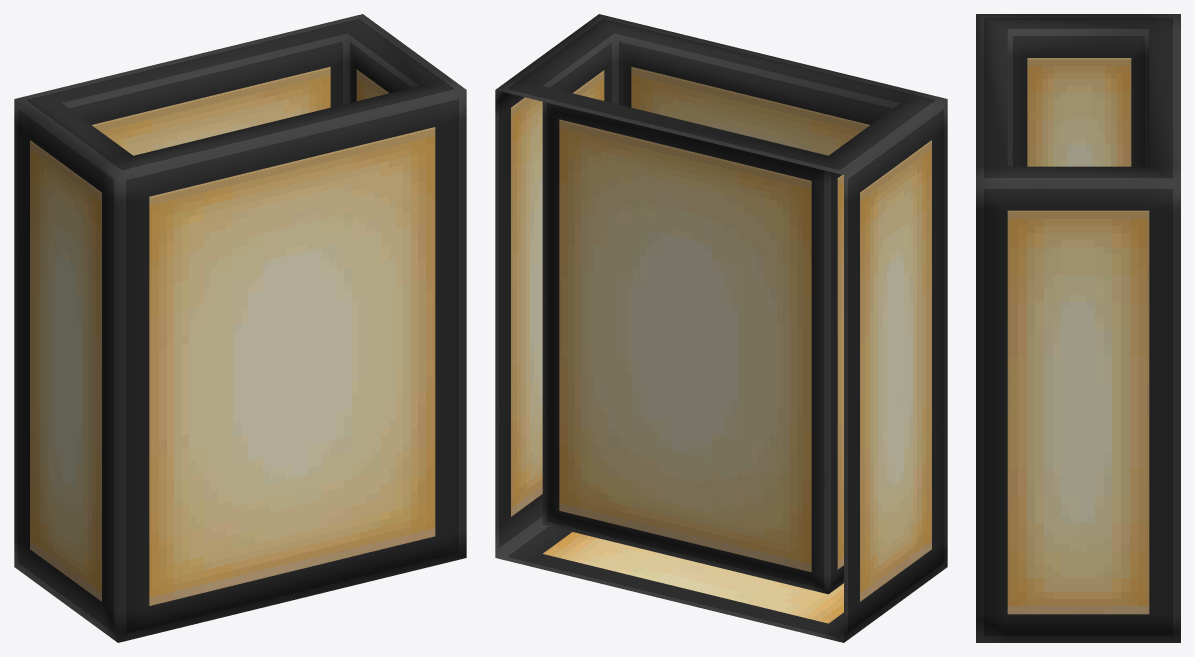
The model's file is rmk_jpn_lamp_wall.dae.
The picture shows the model from 3 angles, left to right: view 1: azimuth 30°, elevation 25°; view 2: azimuth 150°, elevation 25°; view 3: azimuth 270°, elevation 25°; orthographic projection.
Parts seen in each view (by area): view 1: rmk_jpn_lamp_wall; view 2: rmk_jpn_lamp_wall; view 3: rmk_jpn_lamp_wall.
Boxes of the visible parts, x1=… form: rmk_jpn_lamp_wall: x1=14, y1=14, x2=466, y2=642; rmk_jpn_lamp_wall: x1=495, y1=14, x2=947, y2=642; rmk_jpn_lamp_wall: x1=976, y1=14, x2=1180, y2=642.
Size of the model in its own units: 16.03 by 20.54 by 8.27.
Materials: 2 (2 with a texture image).
